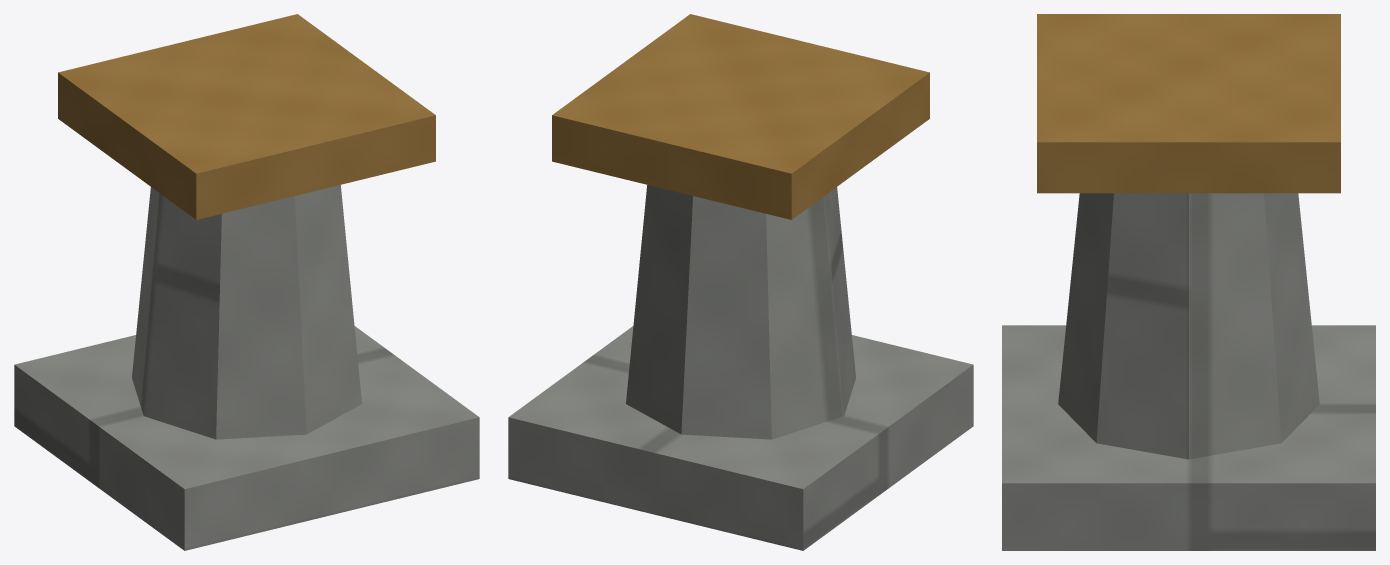
Rendered from key_pedestal.obj.
The picture shows the model from 3 angles, left to right: view 1: azimuth 30°, elevation 25°; view 2: azimuth 150°, elevation 25°; view 3: azimuth 270°, elevation 25°; orthographic projection. The views are drawn at different scales.
Visible parts, largest first — view 1: key_pedestal; view 2: key_pedestal; view 3: key_pedestal.
Part boxes in pixels (<box>): key_pedestal: <box>14,14,479,550</box>; key_pedestal: <box>508,14,973,550</box>; key_pedestal: <box>1002,14,1375,550</box>.
Size of the model in its own units: 0.8 by 0.93 by 0.8.
2 materials, 2 textured.
